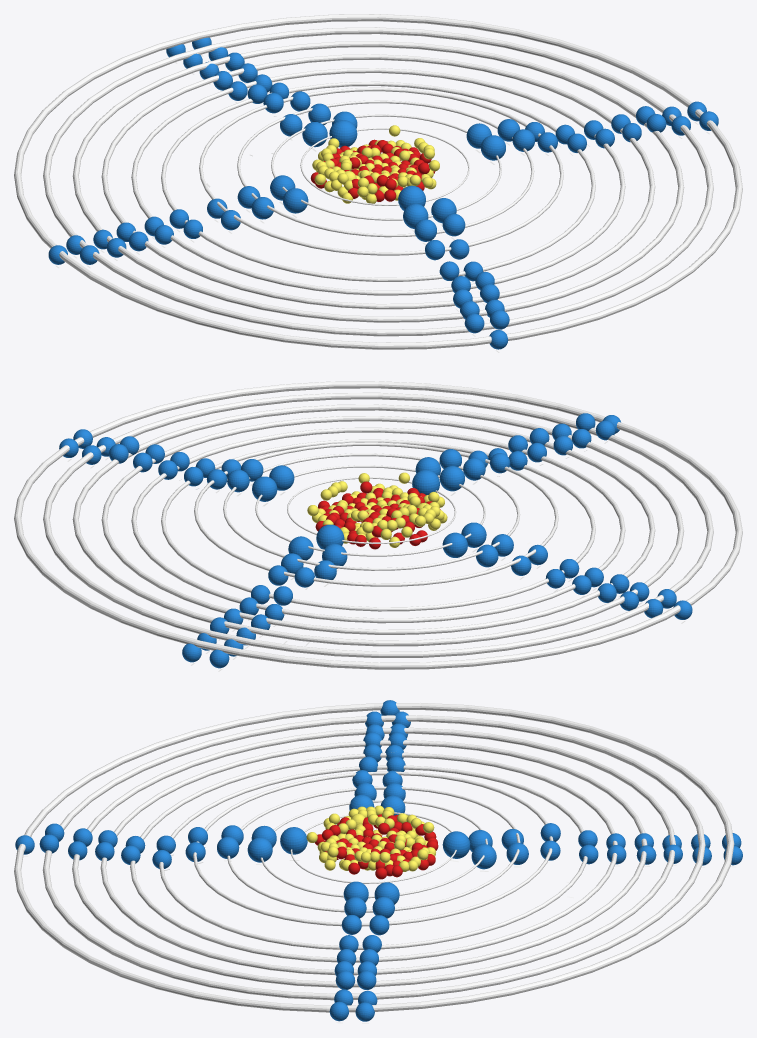
3 renders of one model, top to bottom at view 1: azimuth 30°, elevation 25°; view 2: azimuth 150°, elevation 25°; view 3: azimuth 270°, elevation 25°, orthographic.
Visible parts, largest first — view 1: Torus.010, Torus.009, Torus.008, Torus.007, Torus.006, Torus.005, Torus.004, Torus.003, Torus.002, Torus.001, g; view 2: Torus.010, Torus.009, Torus.008, Torus.007, Torus.006, Torus.005, Torus.004, Torus.003, Torus.002, Torus.001, g.001, g (+3 smaller); view 3: Torus.010, Torus.009, Torus.008, Torus.007, Torus.006, Torus.005, Torus.004, Torus.003, Torus.002, g, g.001, Torus.001.
Boxes of the visible parts, x1,y1,x2,y2 form: Torus.010: (14,14,742,349); Torus.009: (43,27,713,336); Torus.008: (72,41,684,322); Torus.007: (101,54,655,309); Torus.006: (131,68,625,295); Torus.005: (161,81,595,281); Torus.004: (199,87,563,255); Torus.003: (237,100,534,237); Torus.002: (271,114,501,220); Torus.001: (300,128,469,205); g: (329,120,357,147); Torus.010: (14,381,742,669); Torus.009: (43,392,713,657); Torus.008: (72,404,684,646); Torus.007: (101,416,655,634); Torus.006: (131,427,625,623); Torus.005: (161,439,595,611); Torus.004: (194,442,558,586); Torus.003: (223,453,520,570); Torus.002: (255,465,485,556); Torus.001: (287,477,456,544); g.001: (412,470,439,495); g: (316,524,344,549); Torus.010: (14,703,734,1012); Torus.009: (42,715,705,1000); Torus.008: (72,727,675,987); Torus.007: (100,740,647,975); Torus.006: (130,752,617,962); Torus.005: (159,765,587,949); Torus.004: (193,771,553,926); Torus.003: (227,786,520,912); Torus.002: (260,800,487,898); g: (442,831,470,858); g.001: (280,827,307,854); Torus.001: (290,812,456,883).
Bounding box in the file's own units: 26.34 × 2.85 × 26.14.
